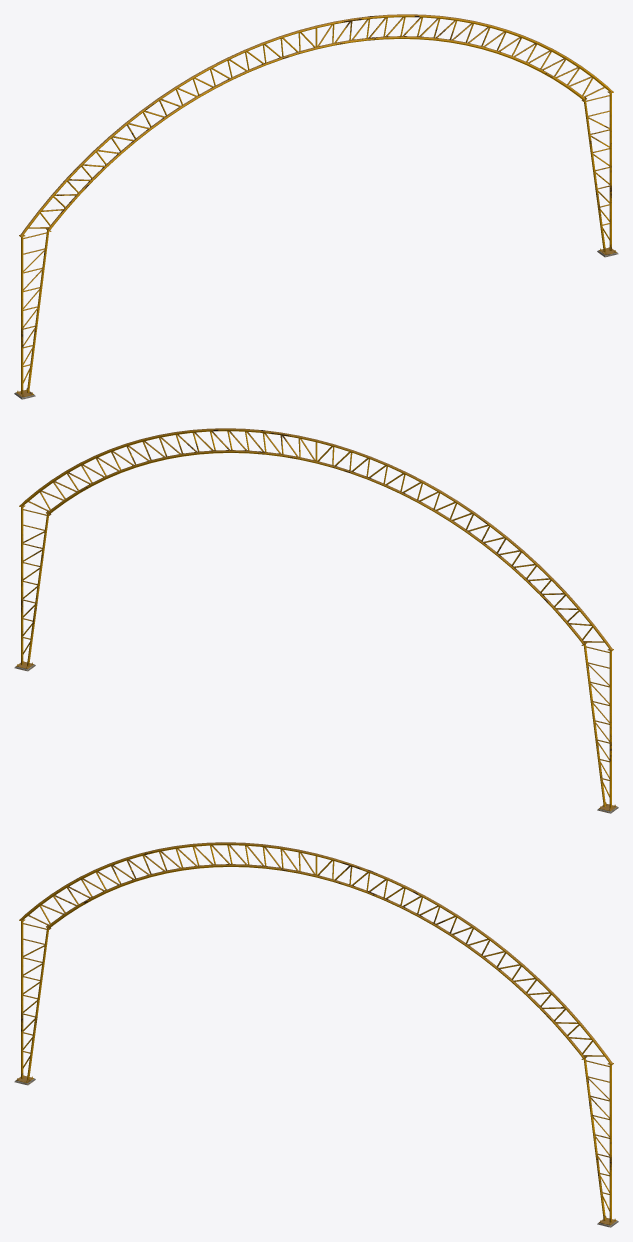
The model's file is mesh_frame.FBX.
3 renders of one model, top to bottom at view 1: azimuth 30°, elevation 25°; view 2: azimuth 150°, elevation 25°; view 3: azimuth 330°, elevation 25°, orthographic.
Parts seen in each view (by area): view 1: mesh_frame002; view 2: mesh_frame002; view 3: mesh_frame002.
Boxes of the visible parts, x1=… form: mesh_frame002: x1=14, y1=14, x2=618, y2=399; mesh_frame002: x1=14, y1=428, x2=618, y2=813; mesh_frame002: x1=14, y1=842, x2=618, y2=1227.
Bounding box in the file's own units: 50.23 × 24 × 1.18.
1 material, 1 textured.
